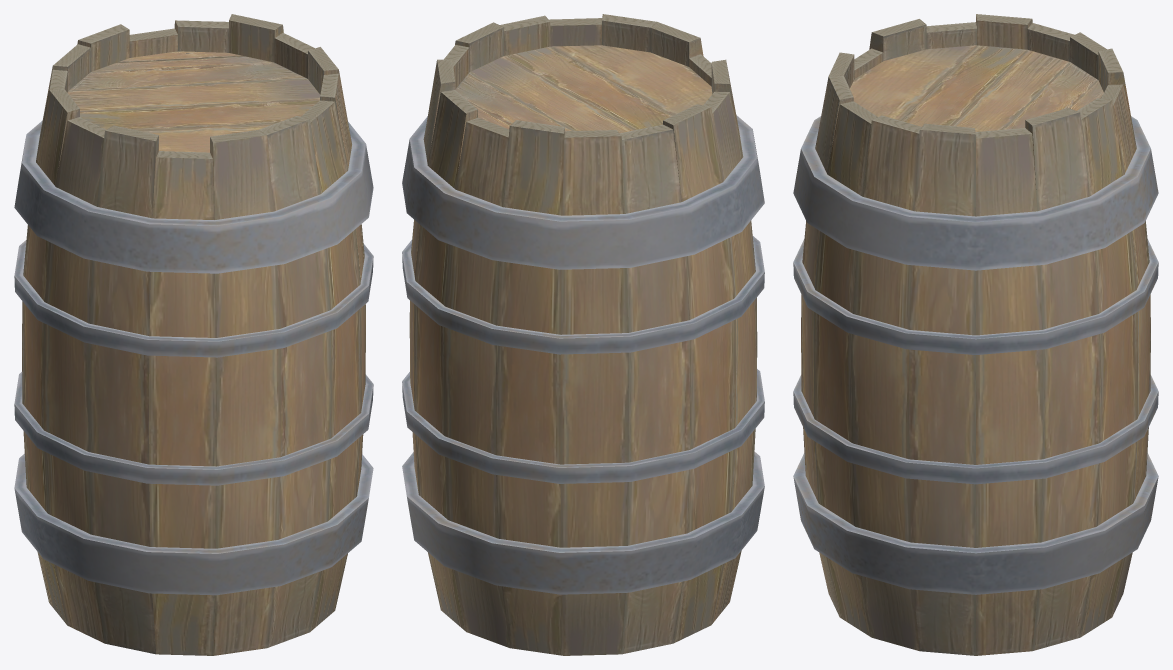
The model's file is iw_snow_barrel1.fbx.
3 views of the same model, side by side, from view 1: azimuth 30°, elevation 25°; view 2: azimuth 150°, elevation 25°; view 3: azimuth 270°, elevation 25° (orthographic).
Visible parts, largest first — view 1: renderMesh0; view 2: renderMesh0; view 3: renderMesh0.
Part boxes in pixels (<box>): renderMesh0: <box>14,14,373,655</box>; renderMesh0: <box>402,14,764,655</box>; renderMesh0: <box>793,14,1158,655</box>.
Size of the model in its own units: 82 by 130 by 82.
Materials: 1 (1 with a texture image).
